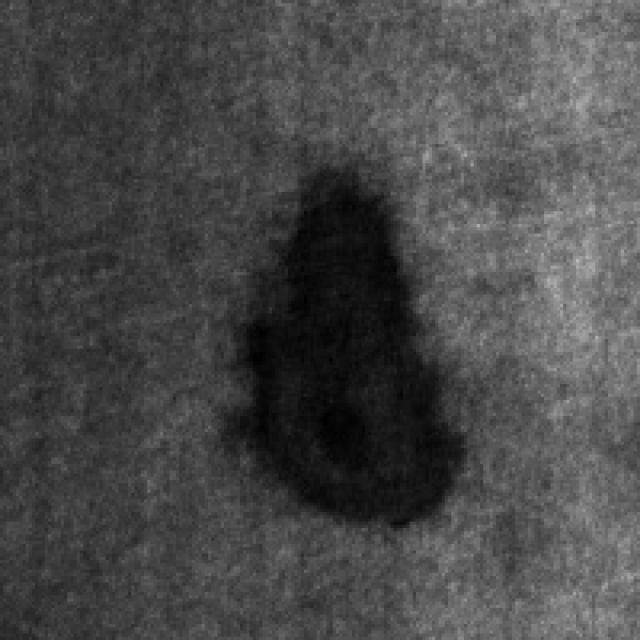patches: (212, 160, 454, 525)
